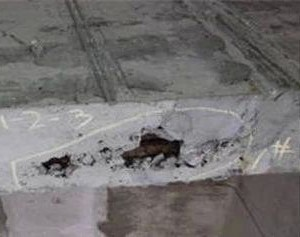Exposed reinforcement: (120, 142, 181, 159)
Spalling: (98, 125, 242, 172), (30, 149, 97, 179)
